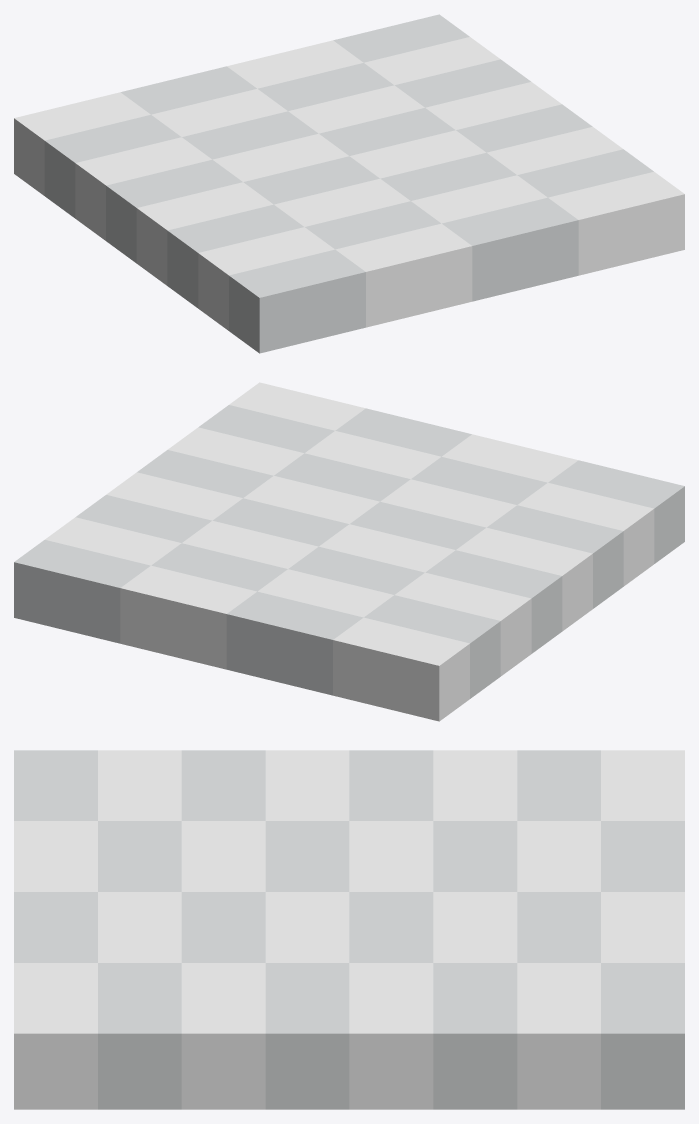
File: carpet_white_model.glb
The picture shows the model from 3 angles, top to bottom: view 1: azimuth 30°, elevation 25°; view 2: azimuth 150°, elevation 25°; view 3: azimuth 270°, elevation 25°; orthographic projection. The views are drawn at different scales.
Visible parts, largest first — view 1: Untitled; view 2: Untitled; view 3: Untitled.
Boxes of the visible parts, x1,y1,x2,y2 form: Untitled: (14, 14, 684, 353); Untitled: (14, 382, 684, 721); Untitled: (14, 750, 684, 1109).
Bounding box in the file's own units: 0.8 × 0.1 × 0.8.
Materials: 1 (1 with a texture image).
